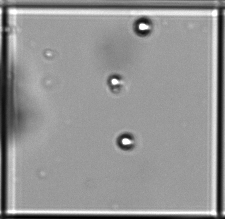Living Cell: (133, 17, 152, 36), (118, 132, 135, 150), (108, 75, 122, 92)
